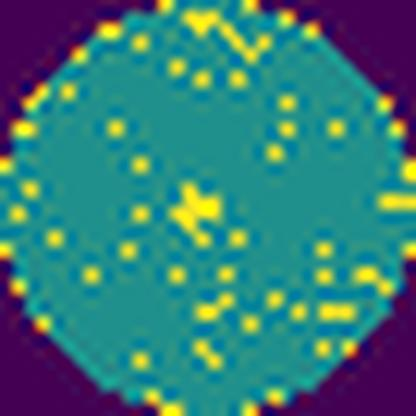Center: (163, 172, 230, 251)
